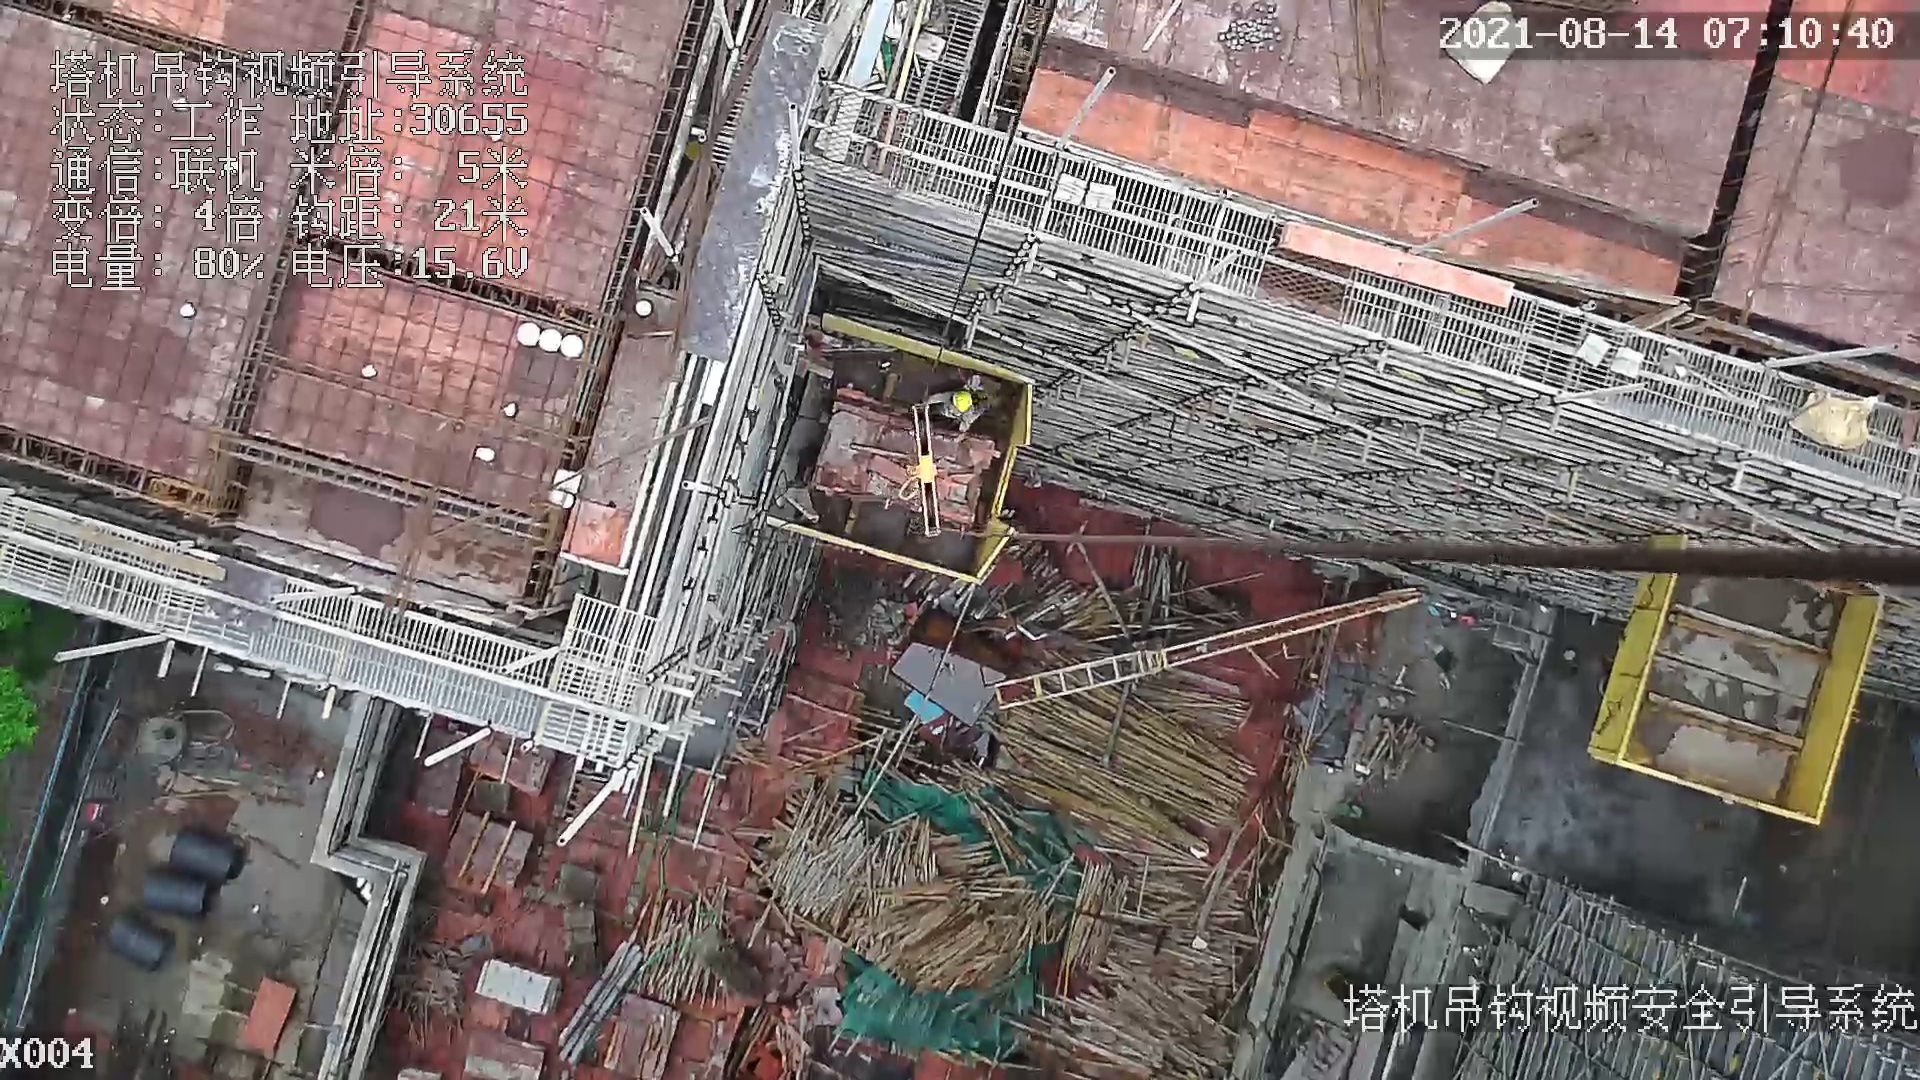helmet: (952, 391, 974, 413)
hook: (892, 404, 951, 537)
person: (927, 391, 983, 439)
